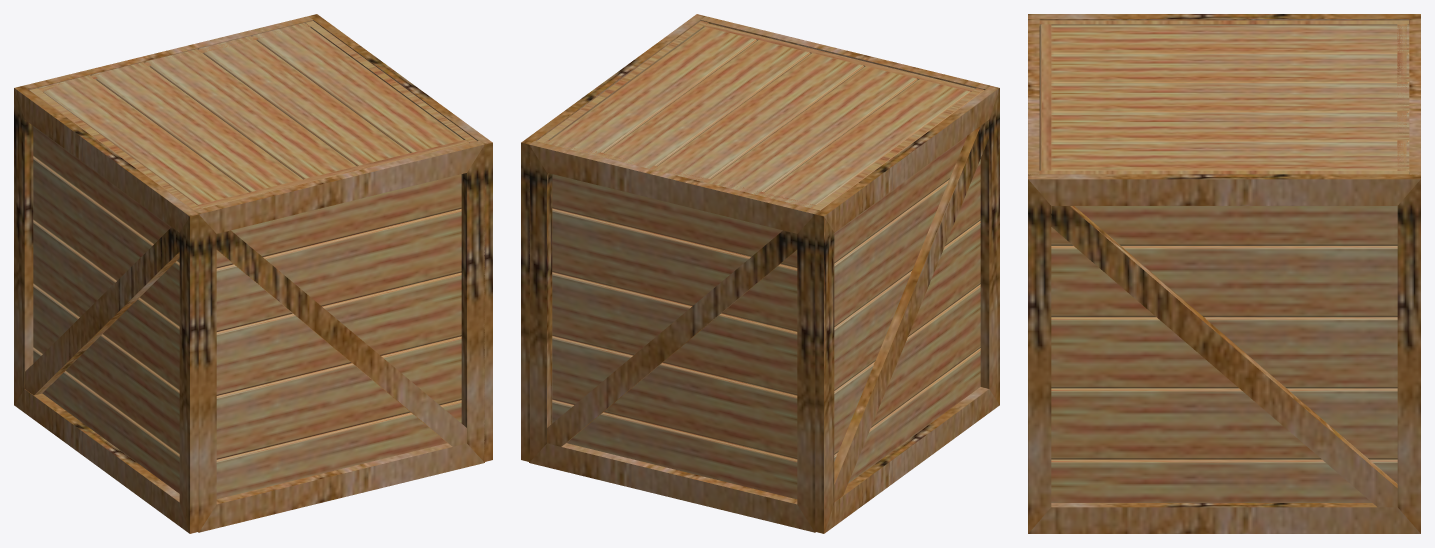
3 renders of one model, left to right at view 1: azimuth 30°, elevation 25°; view 2: azimuth 150°, elevation 25°; view 3: azimuth 270°, elevation 25°, orthographic. The views are drawn at different scales.
Visible parts, largest first — view 1: Object_2, Object_3; view 2: Object_2, Object_3; view 3: Object_2, Object_3.
Boxes of the visible parts, x1,y1,x2,y2 form: Object_2: (29,21,477,499); Object_3: (14,14,492,533); Object_2: (536,21,984,499); Object_3: (521,14,999,533); Object_2: (1039,20,1409,502); Object_3: (1028,14,1420,533).
Bounding box in the file's own units: 0.399 × 0.402 × 0.4008.
Materials: 2 (2 with a texture image).
